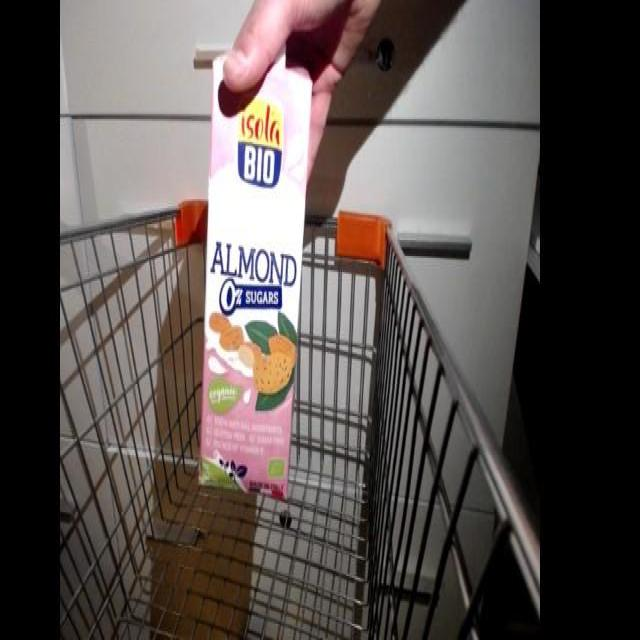Almond Milk: (192, 32, 316, 508)
